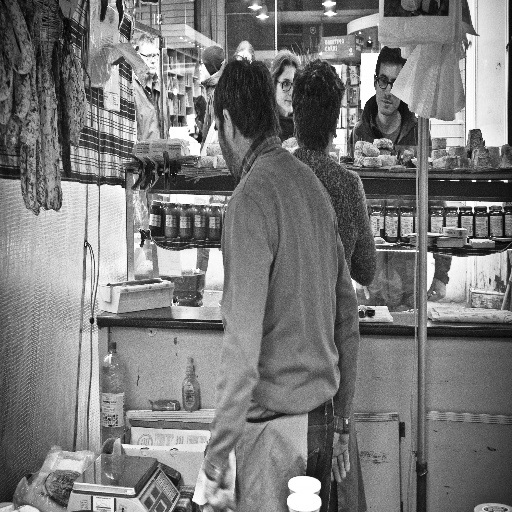hand: (203, 464, 233, 511), (331, 430, 350, 484), (427, 279, 446, 300)
